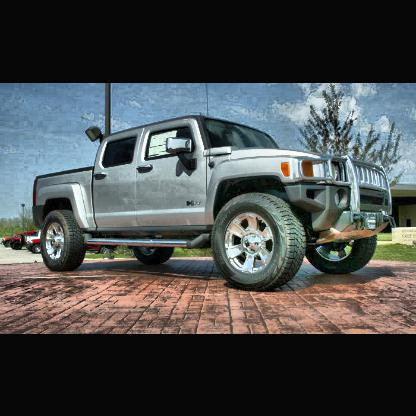HUMMER H3T Crew Cab 2010: (31, 112, 397, 293)
